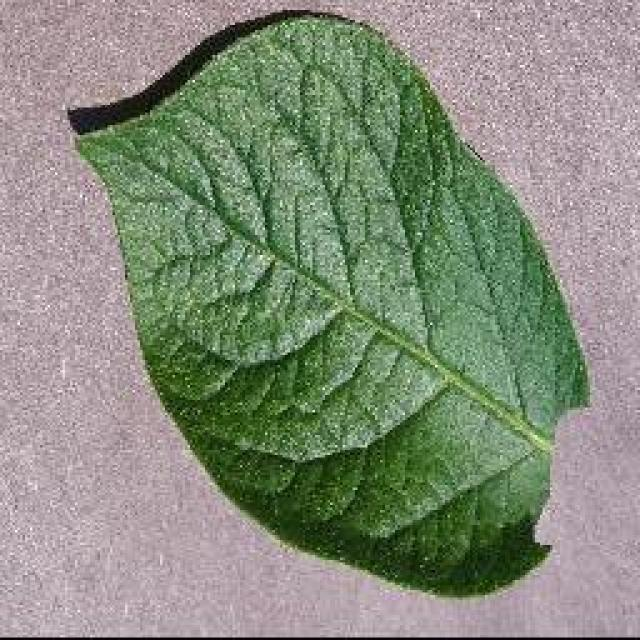Potato___healthy: (70, 13, 595, 607)
